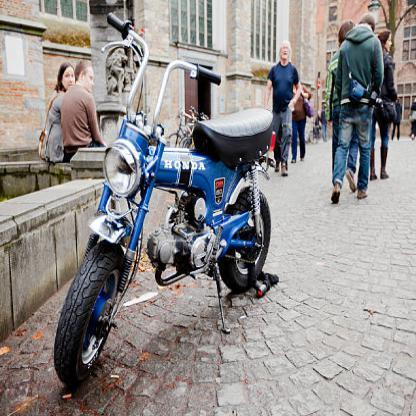Motorcycle: (52, 13, 275, 386)
